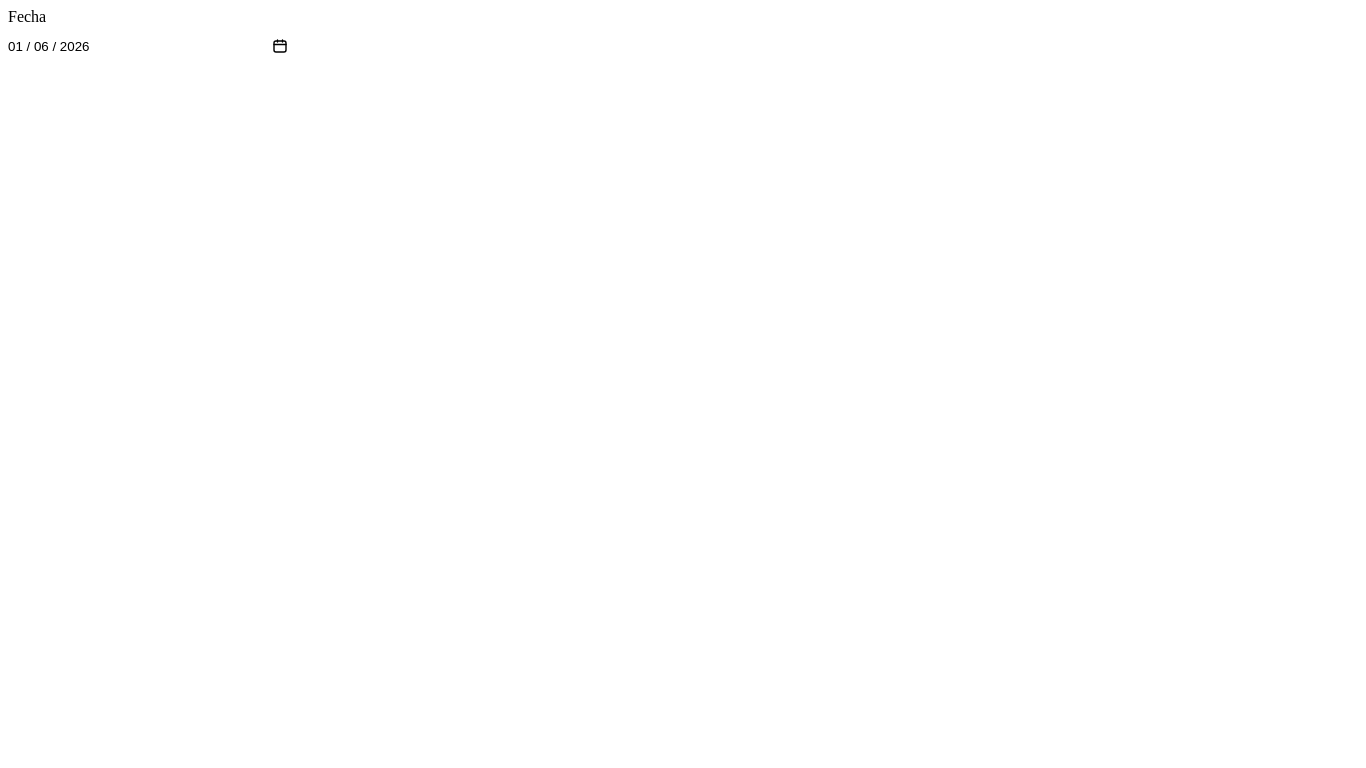
Test: Datepicker › selects a day, reflects it in the field and closes
This screenshot has width=1366, height=768.
Click the button named "Fecha" at point(49, 46), box [8,26,288,66]
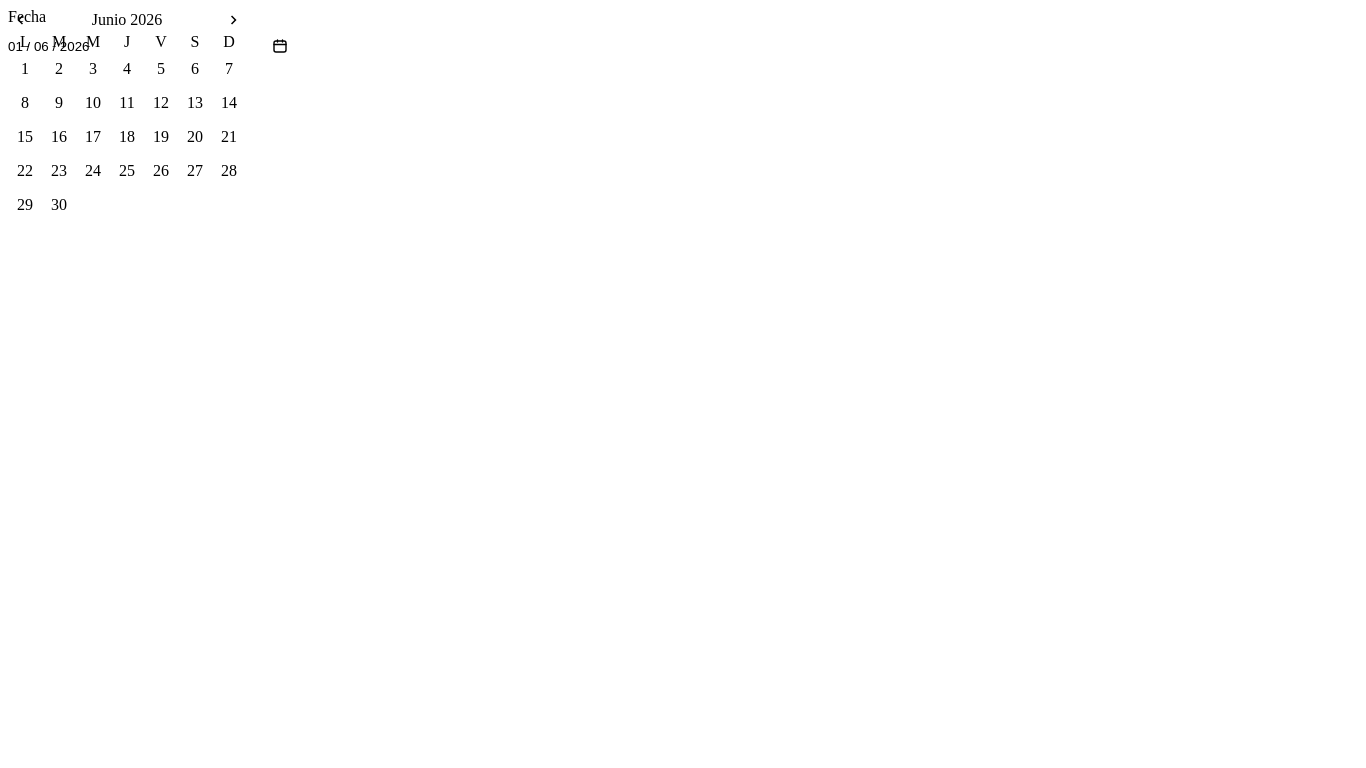
Click the button named "14 / 06 / 2026" at point(229, 103), box [212,86,246,120]
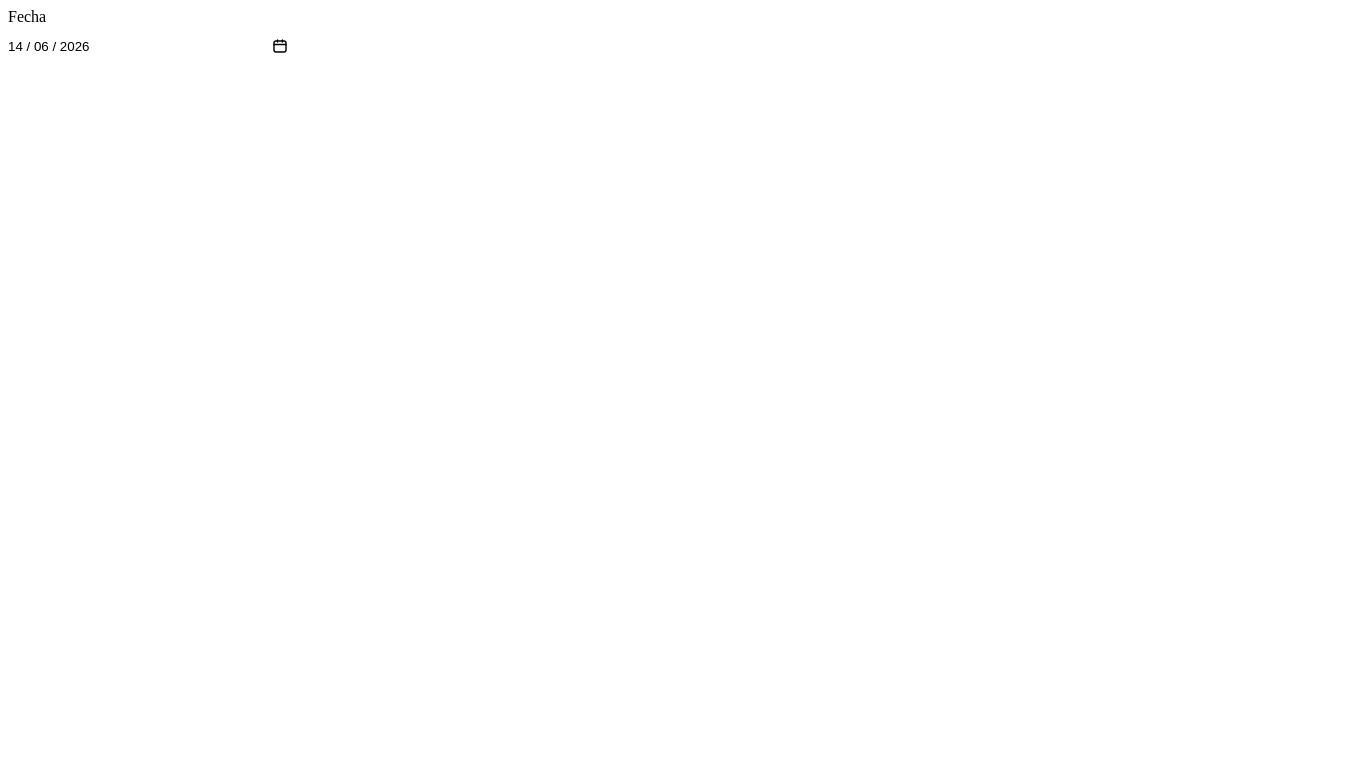
expect the dialog is gone: met
expect the text "14 / 06 / 2026" is shown: met, box [8,38,90,54]
